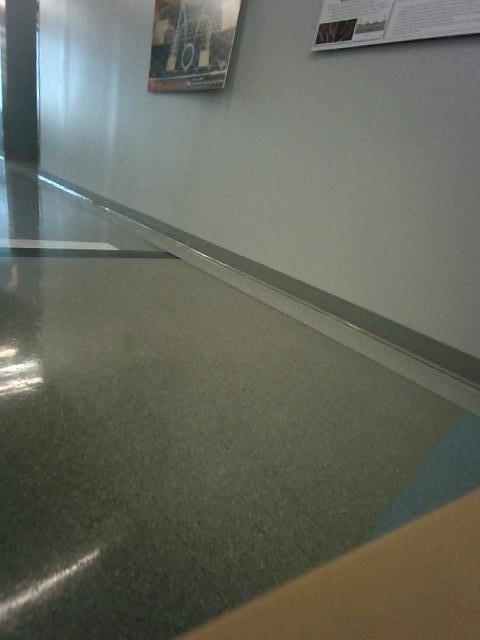ball: (148, 0, 240, 91)
